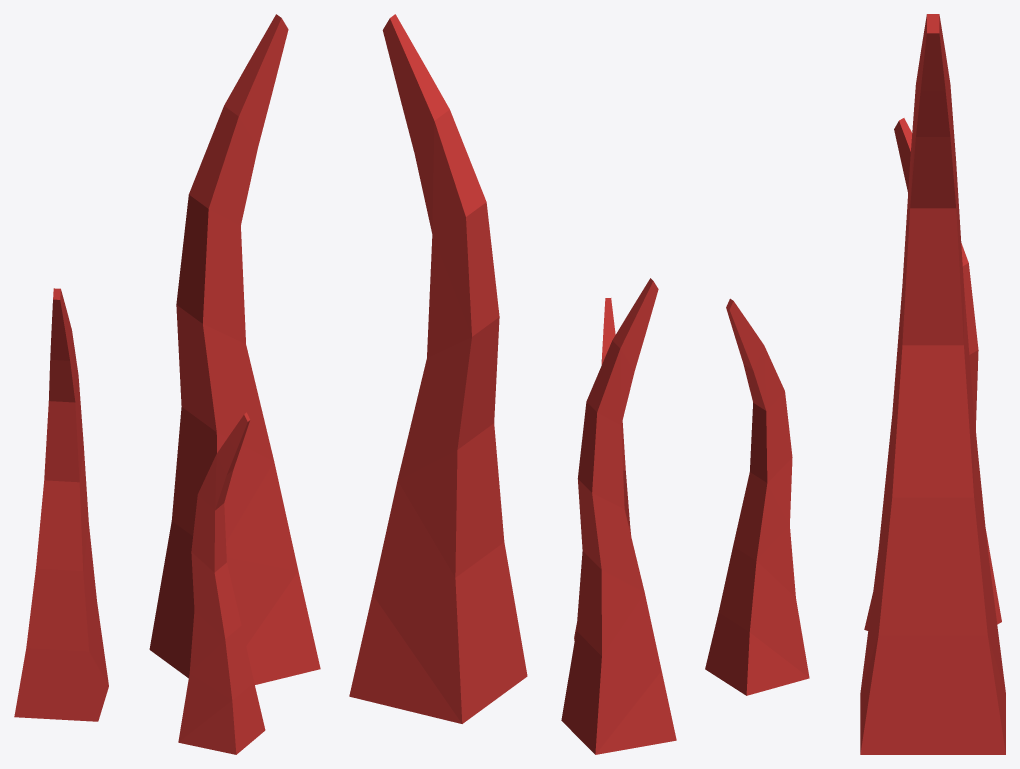
File: world_3_grass_3.dae
3 renders of one model, left to right at view 1: azimuth 30°, elevation 25°; view 2: azimuth 150°, elevation 25°; view 3: azimuth 270°, elevation 25°, orthographic. The views are drawn at different scales.
Visible parts, largest first — view 1: grass_3; view 2: grass_3; view 3: grass_3.
Part boxes in pixels (<box>): grass_3: <box>14,14,320,754</box>; grass_3: <box>349,14,676,754</box>; grass_3: <box>705,14,1005,754</box>.
Size of the model in its own units: 0.2571 by 0.2067 by 0.5571.
